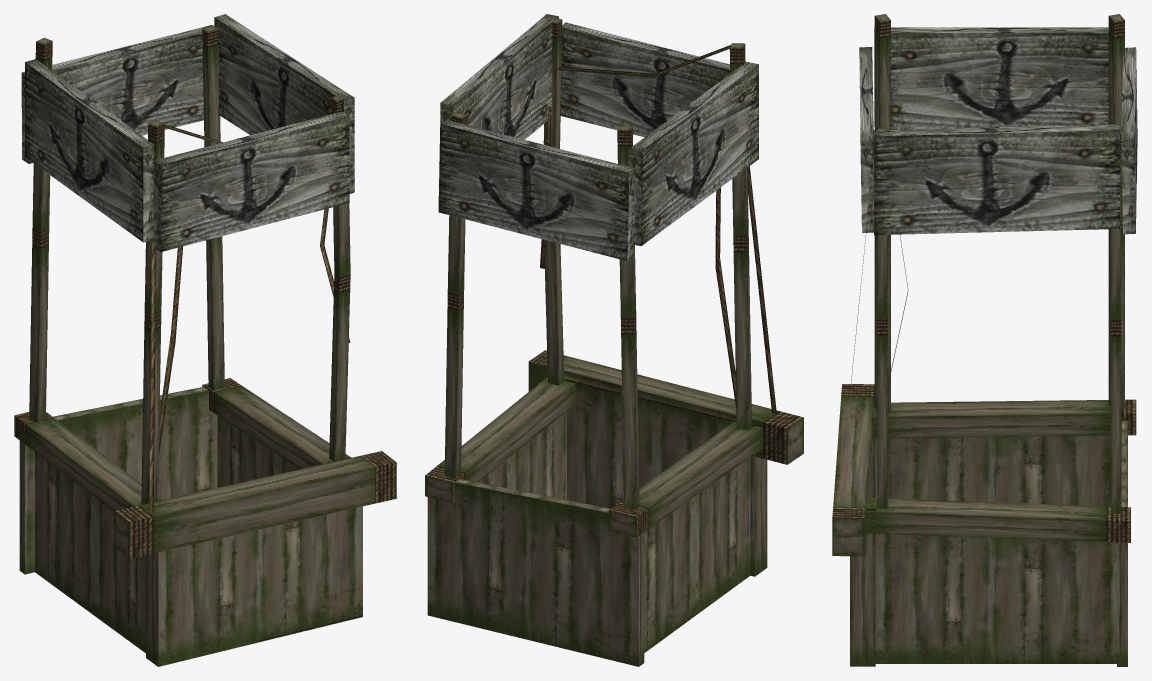
File: ship_parking_booth.fbx
3 views of the same model, side by side, from view 1: azimuth 30°, elevation 25°; view 2: azimuth 150°, elevation 25°; view 3: azimuth 270°, elevation 25° (orthographic). The views are drawn at different scales.
Visible parts, largest first — view 1: pCube5, pCube14, pCube6, pCube17, pCube7, pCube11, pCube18, pCube19, pCube10, pCube9, pCube16, pCube13 (+6 smaller); view 2: pCube11, pCube18, pCube17, pCube5, pCube7, pCube14, pCube19, pCube6, pCube10, pCube9, pCube16, pCube15 (+6 smaller); view 3: pCube8, pCube19, pCube17, pCube7, pCube9, pCube10, pCube6, pCube15, pCube5, pCube13, pCube12, pCube16 (+3 smaller).
Boxes of the visible parts, x1,y1,x2,y2 form: pCube5: [146, 457, 362, 666]; pCube14: [153, 111, 349, 251]; pCube6: [114, 451, 396, 558]; pCube17: [25, 59, 154, 242]; pCube7: [35, 452, 145, 653]; pCube11: [19, 386, 217, 574]; pCube18: [21, 25, 212, 163]; pCube19: [214, 14, 354, 193]; pCube10: [14, 412, 162, 511]; pCube9: [202, 378, 349, 469]; pCube16: [29, 37, 52, 422]; pCube13: [329, 94, 350, 461]; pCube11: [427, 478, 644, 666]; pCube18: [438, 119, 634, 261]; pCube17: [629, 62, 758, 246]; pCube5: [564, 378, 767, 576]; pCube7: [644, 457, 750, 652]; pCube14: [560, 22, 730, 137]; pCube19: [440, 14, 558, 139]; pCube6: [528, 350, 803, 464]; pCube10: [608, 421, 762, 537]; pCube9: [425, 376, 579, 502]; pCube16: [617, 125, 639, 509]; pCube15: [444, 111, 467, 478]; pCube8: [875, 533, 1116, 663]; pCube19: [873, 124, 1119, 235]; pCube17: [874, 27, 1108, 129]; pCube7: [875, 435, 1110, 506]; pCube9: [866, 497, 1130, 542]; pCube10: [872, 399, 1136, 438]; pCube6: [832, 384, 874, 556]; pCube15: [1110, 129, 1121, 513]; pCube5: [850, 404, 875, 666]; pCube13: [877, 128, 888, 509]; pCube12: [874, 14, 890, 411]; pCube16: [1108, 14, 1124, 409].
Size of the model in its own units: 640 by 1227 by 615.
1 material, 1 textured.
